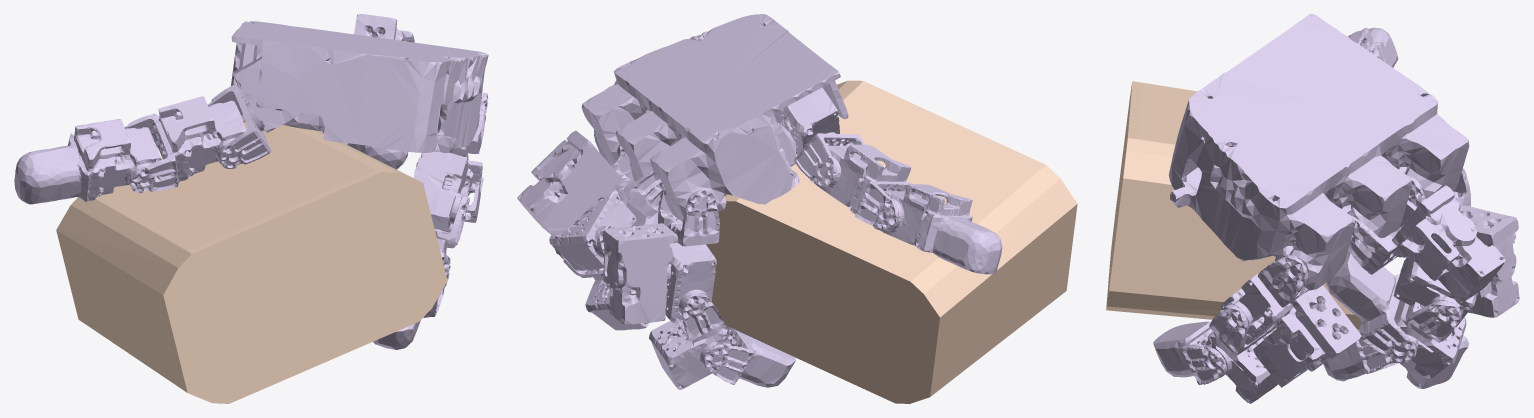
File: 083444d80d3a2b-closed.glb
3 renders of one model, left to right at view 1: azimuth 30°, elevation 25°; view 2: azimuth 150°, elevation 25°; view 3: azimuth 270°, elevation 25°, orthographic. The views are drawn at different scales.
Visible parts, largest first — view 1: world, LEAP_hand; view 2: LEAP_hand, world; view 3: LEAP_hand, world.
Part boxes in pixels (x1,y1,x2,y2): world: (56,122,447,403); LEAP_hand: (14,14,488,349); LEAP_hand: (517,14,1002,389); world: (706,80,1077,403); LEAP_hand: (1153,14,1519,403); world: (1106,81,1360,332).
Bounding box in the file's own units: 0.2556 × 0.1757 × 0.1957.
